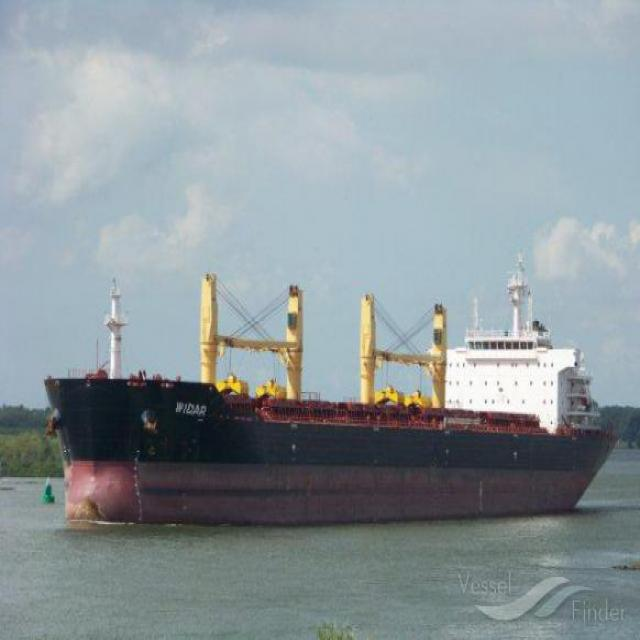OCR: (170, 390, 210, 419)
